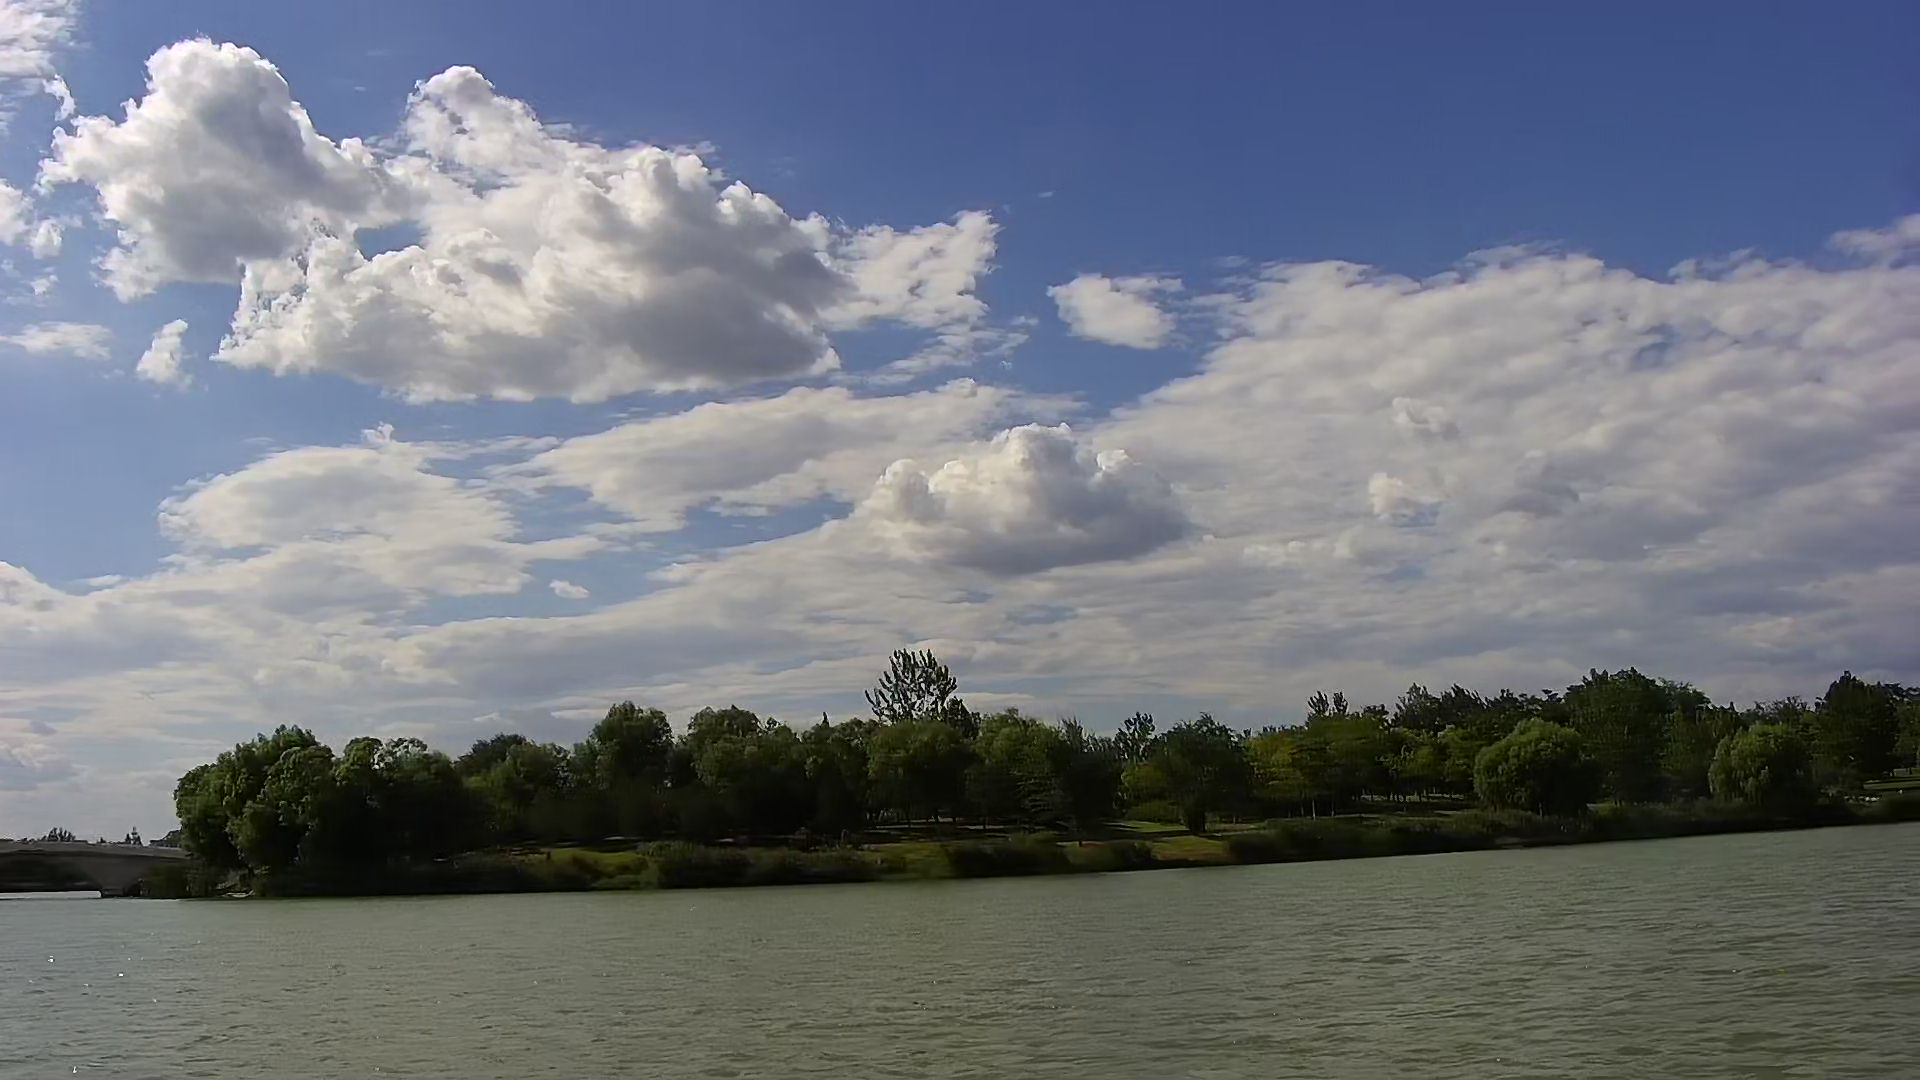bridge: (1, 844, 173, 905)
